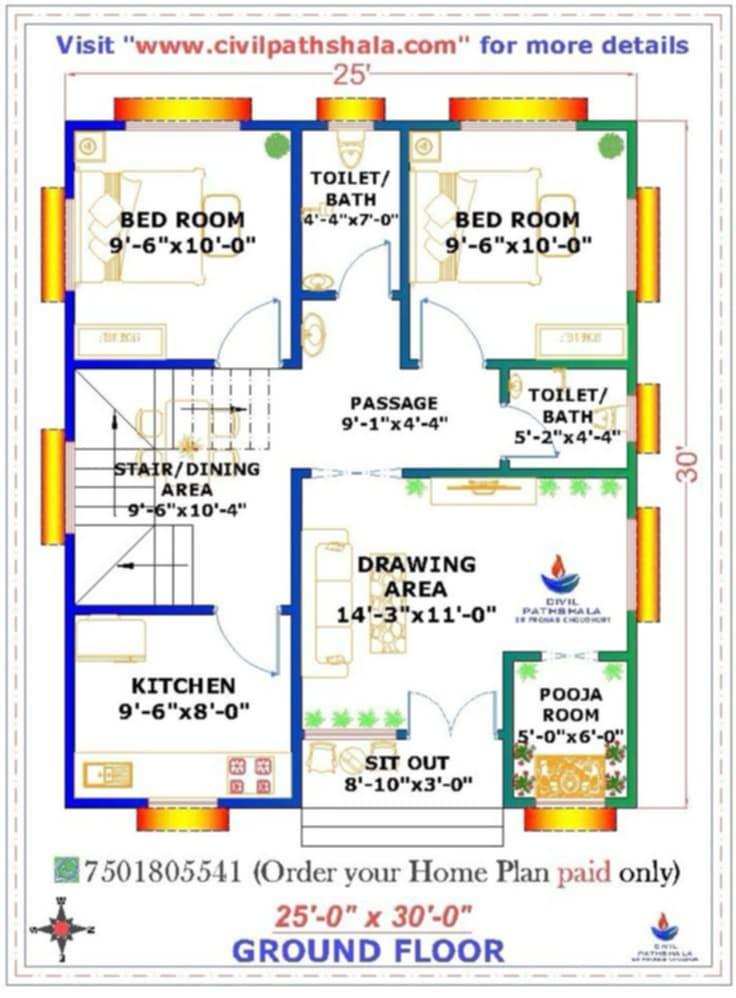Blueprint: (48, 108, 652, 819)
